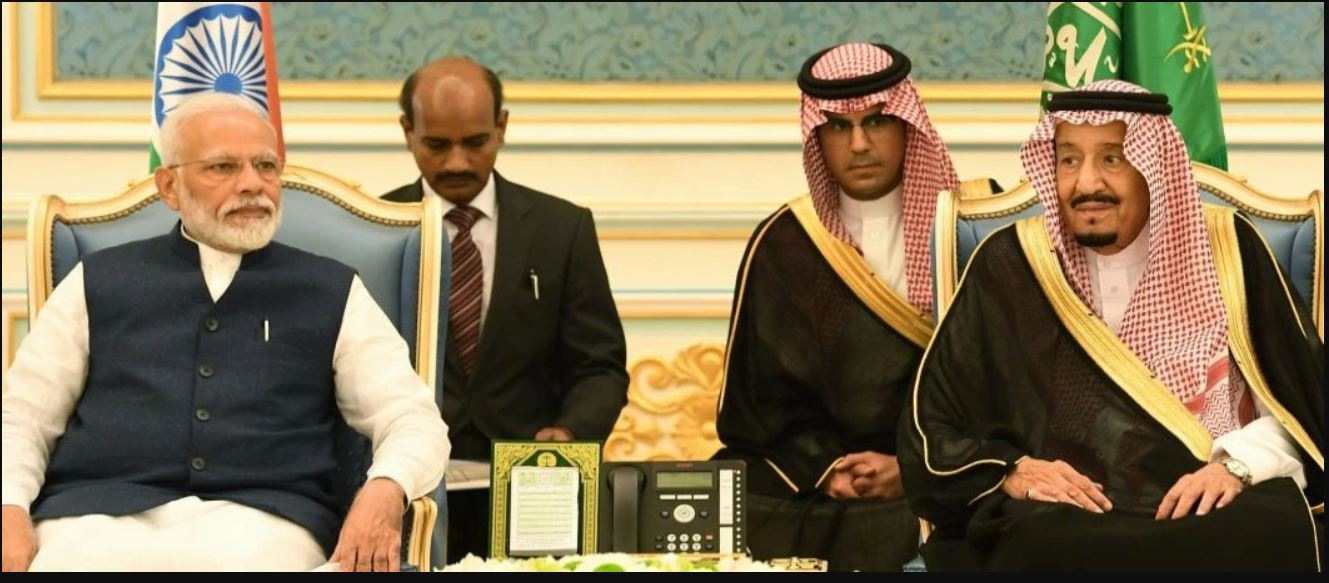modi: (139, 91, 302, 332)
